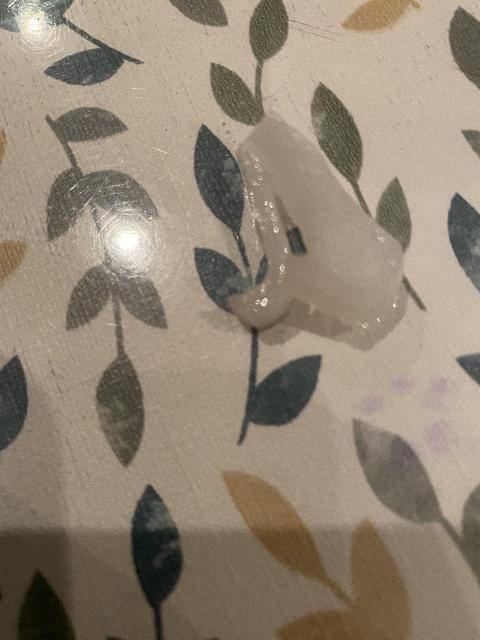Organik: (237, 114, 406, 333)
